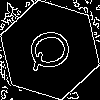Q: (25, 25, 82, 74)
